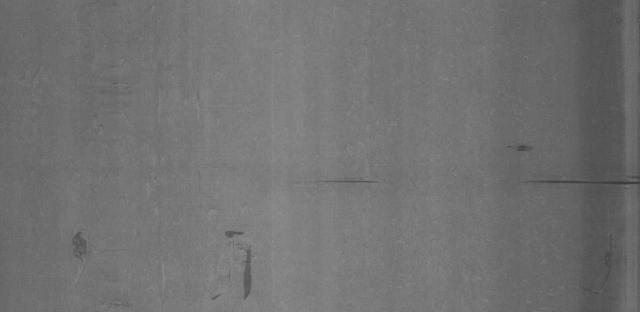rolled_pit: (222, 214, 274, 307)
